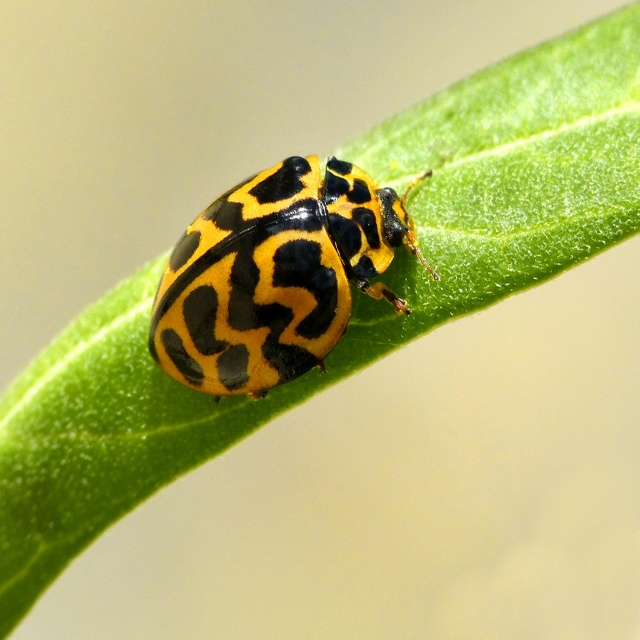Ladybug: (148, 154, 440, 405)
